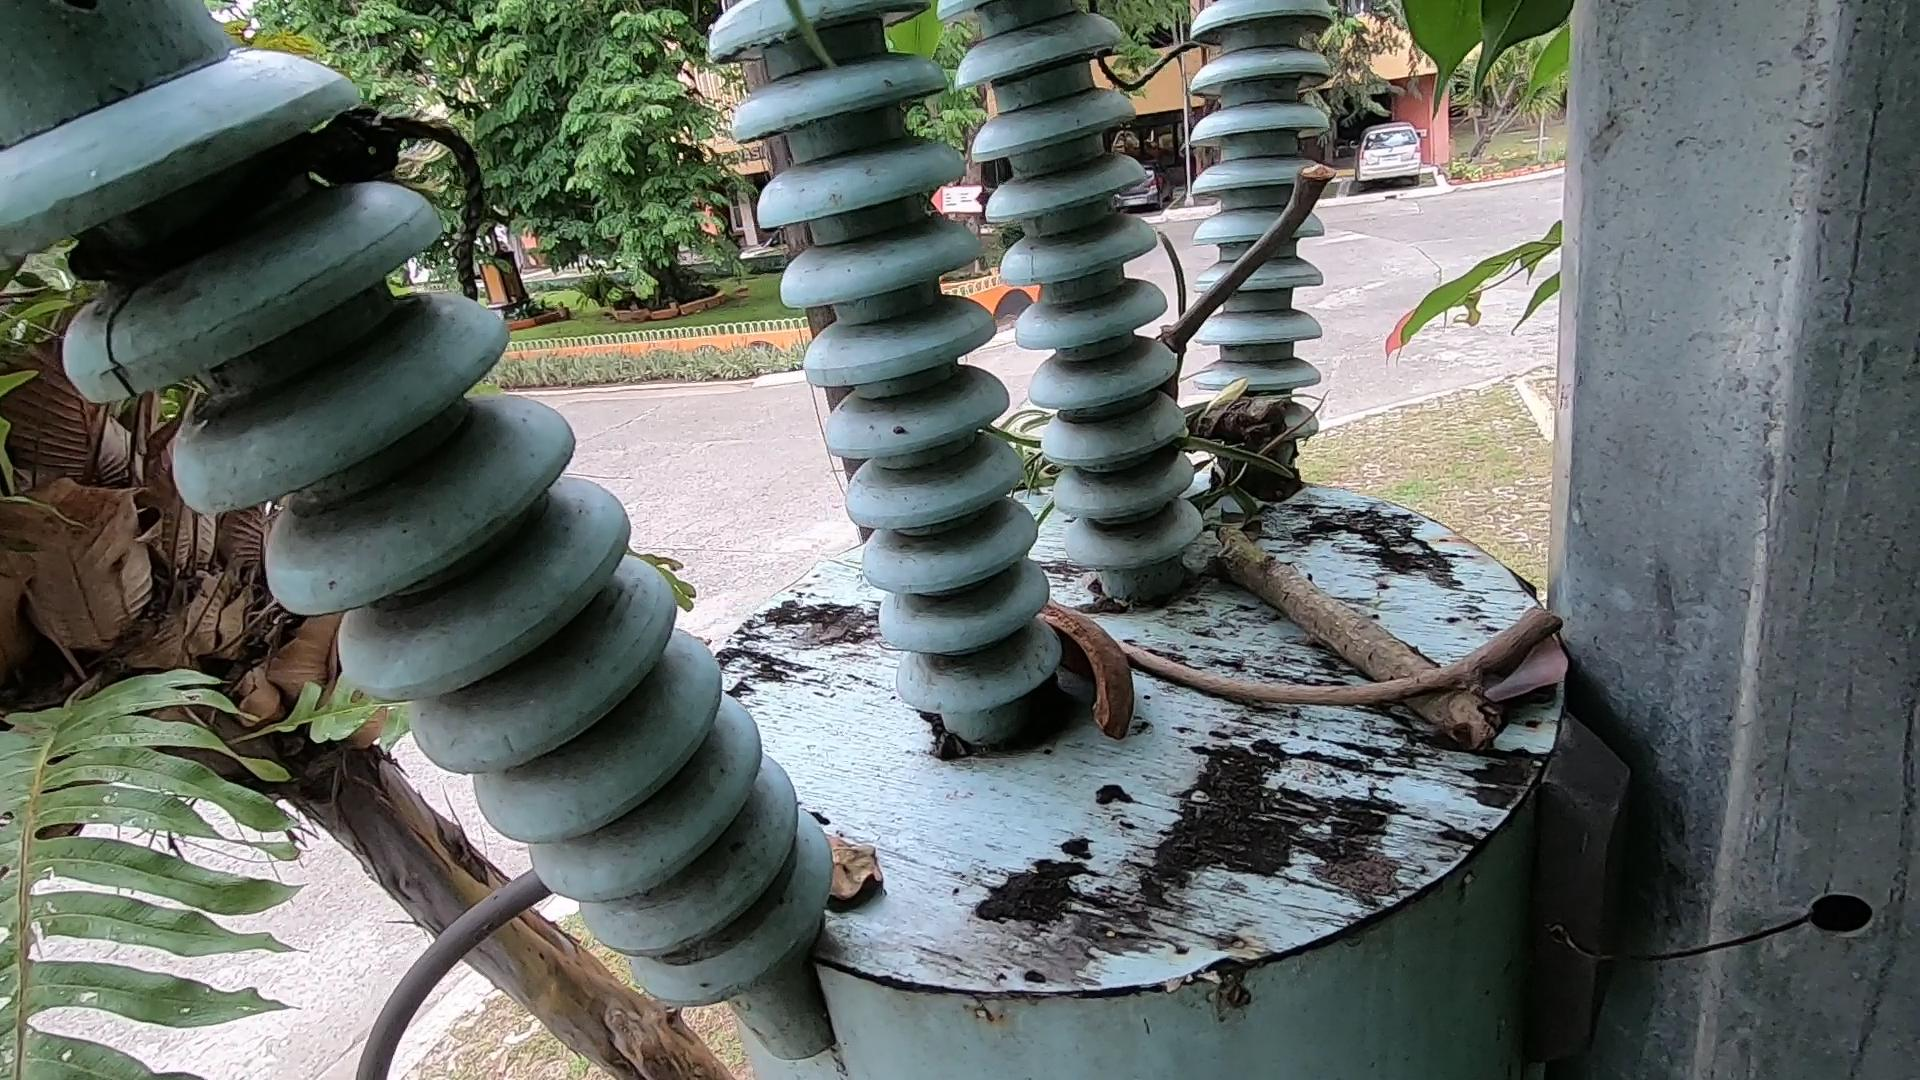branch with leaves: (1172, 415, 1662, 894)
leaf: (720, 825, 1014, 980), (1429, 621, 1677, 752)
mahogany fruit: (1021, 556, 1149, 782)
tree branch: (1145, 102, 1371, 520), (1062, 655, 1597, 771)
